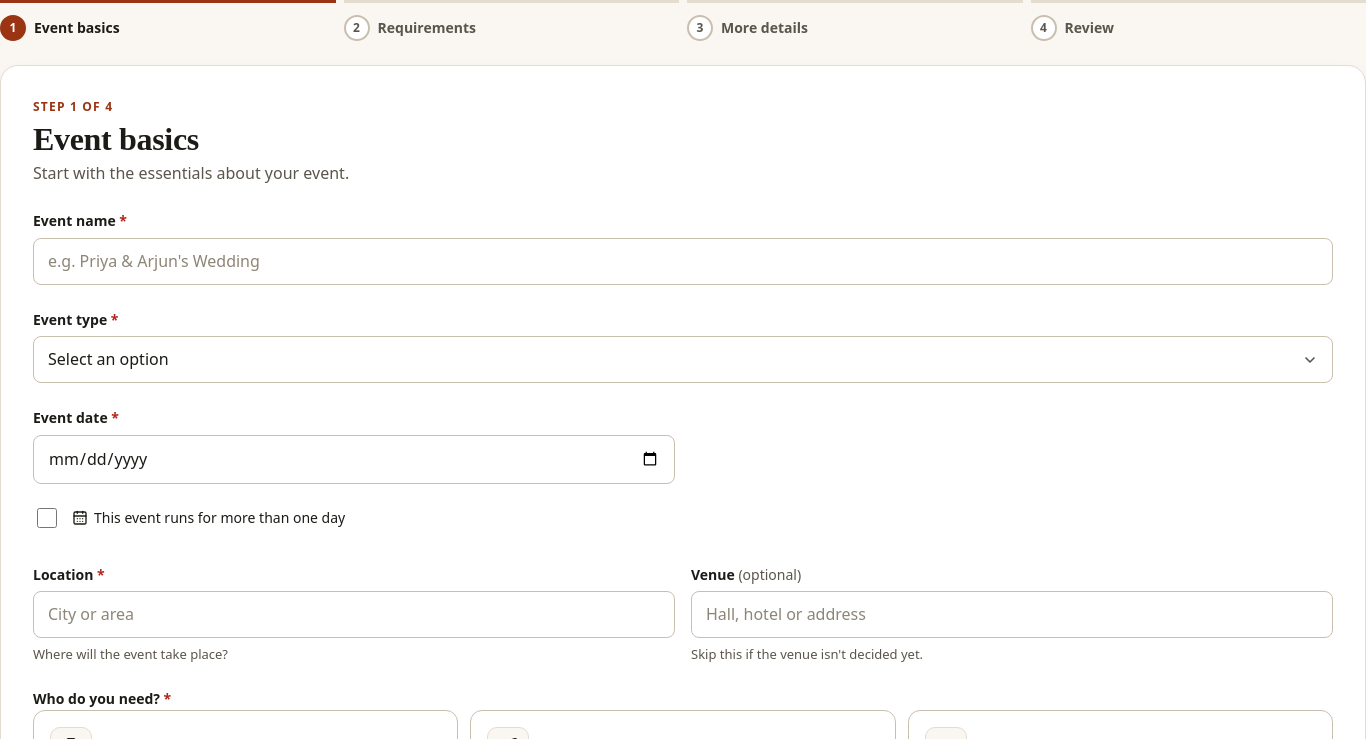
it: RequirementWizard › steps 2 and 3 adapt to Crew
The image size is (1366, 739).
Type "Wedding Celebration" into the field labelled "Event name *" at [683, 261], box [33,238,1333,285]
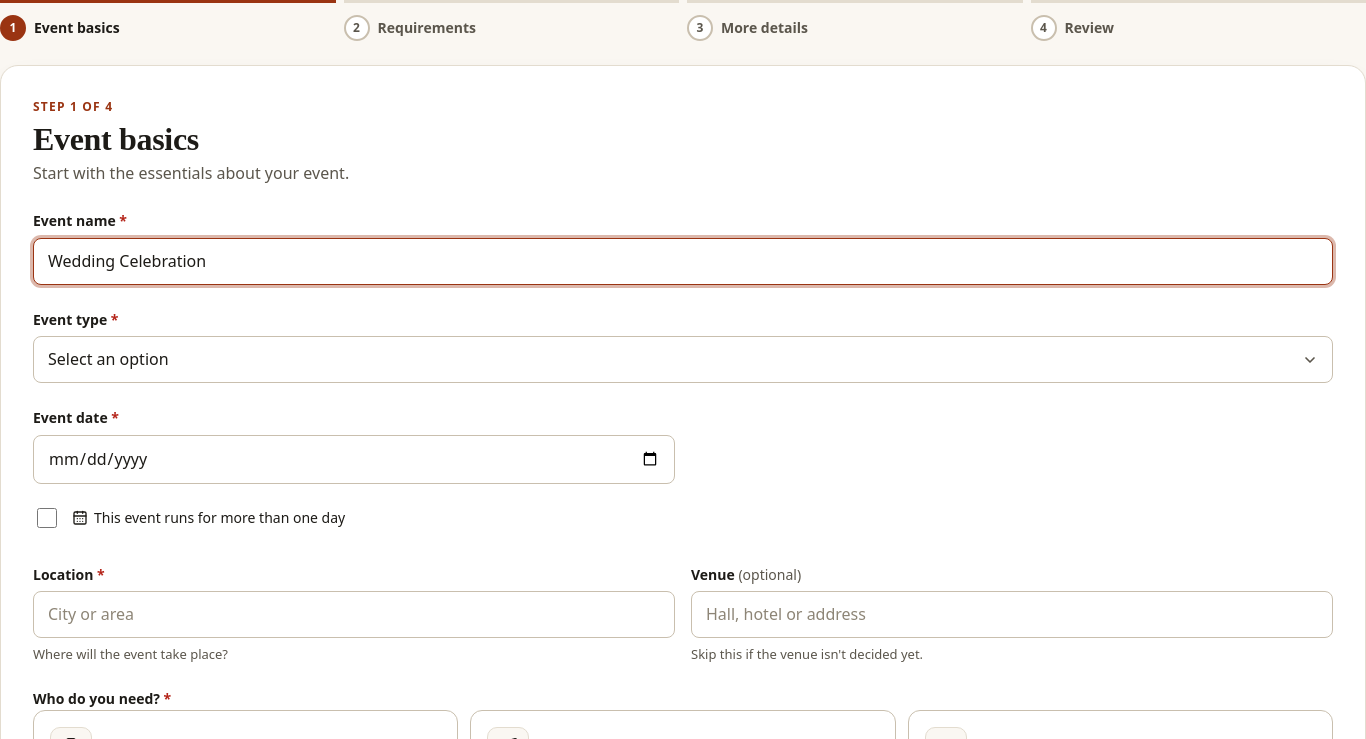
Select "Wedding" in the dropdown labelled "Event type *" at [683, 360], box [33,336,1333,383]
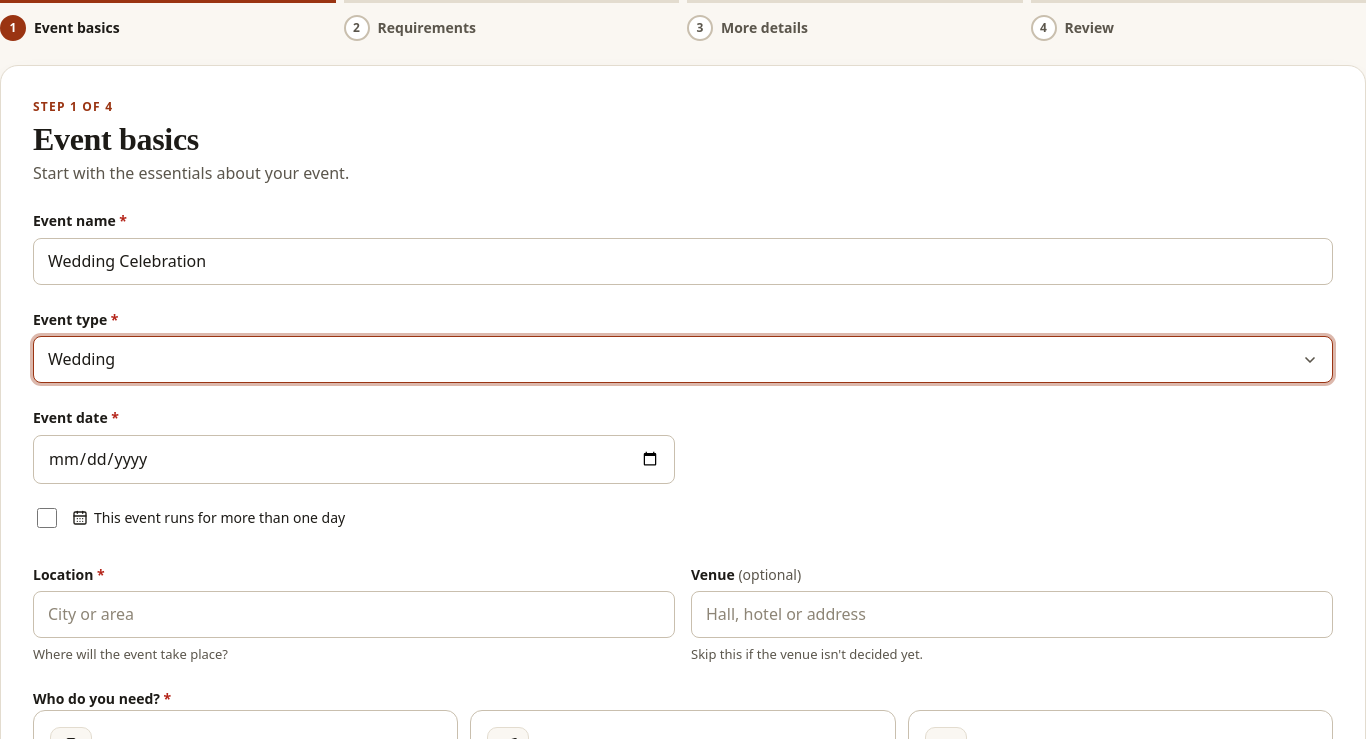
Type "2026-12-15" into the date field labelled "Event date *" at [354, 459], box [33,435,675,484]
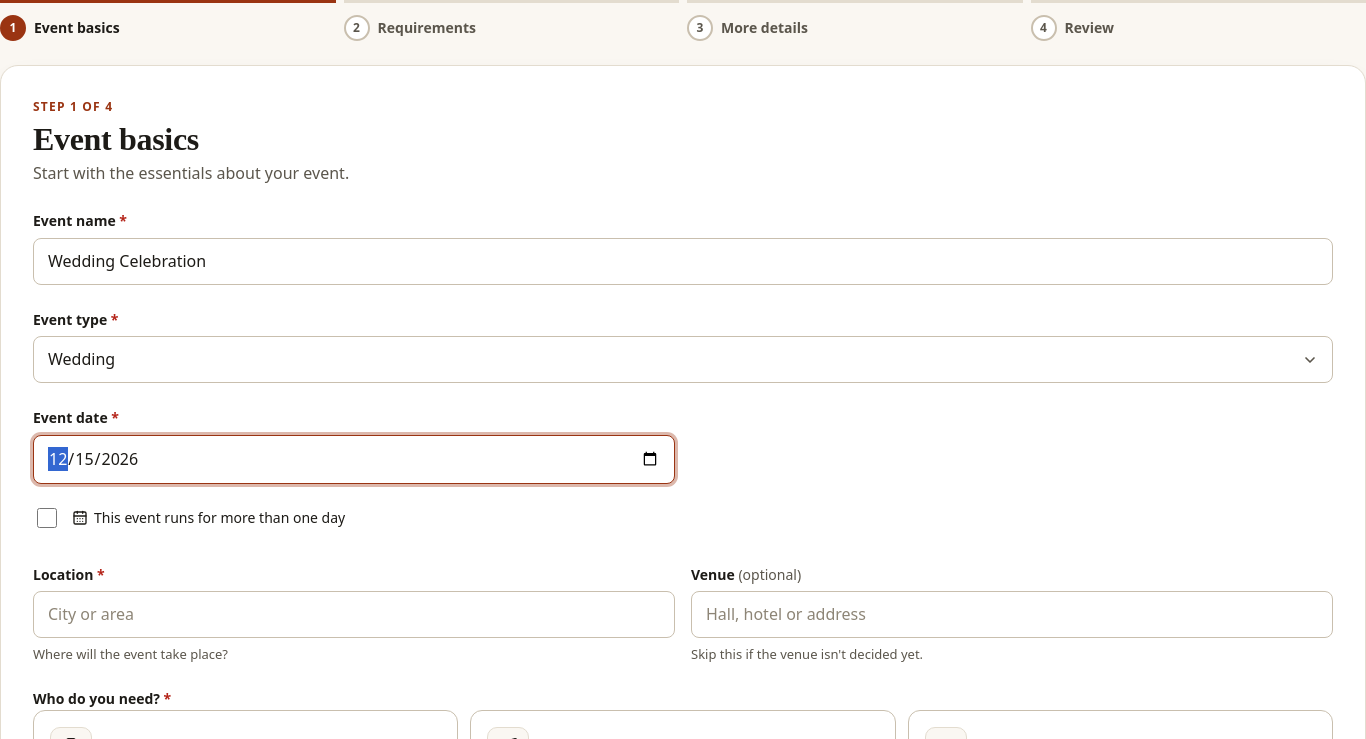
Type "Hyderabad" into the field labelled "Location *" at [354, 615], box [33,591,675,638]
(page scrolled)
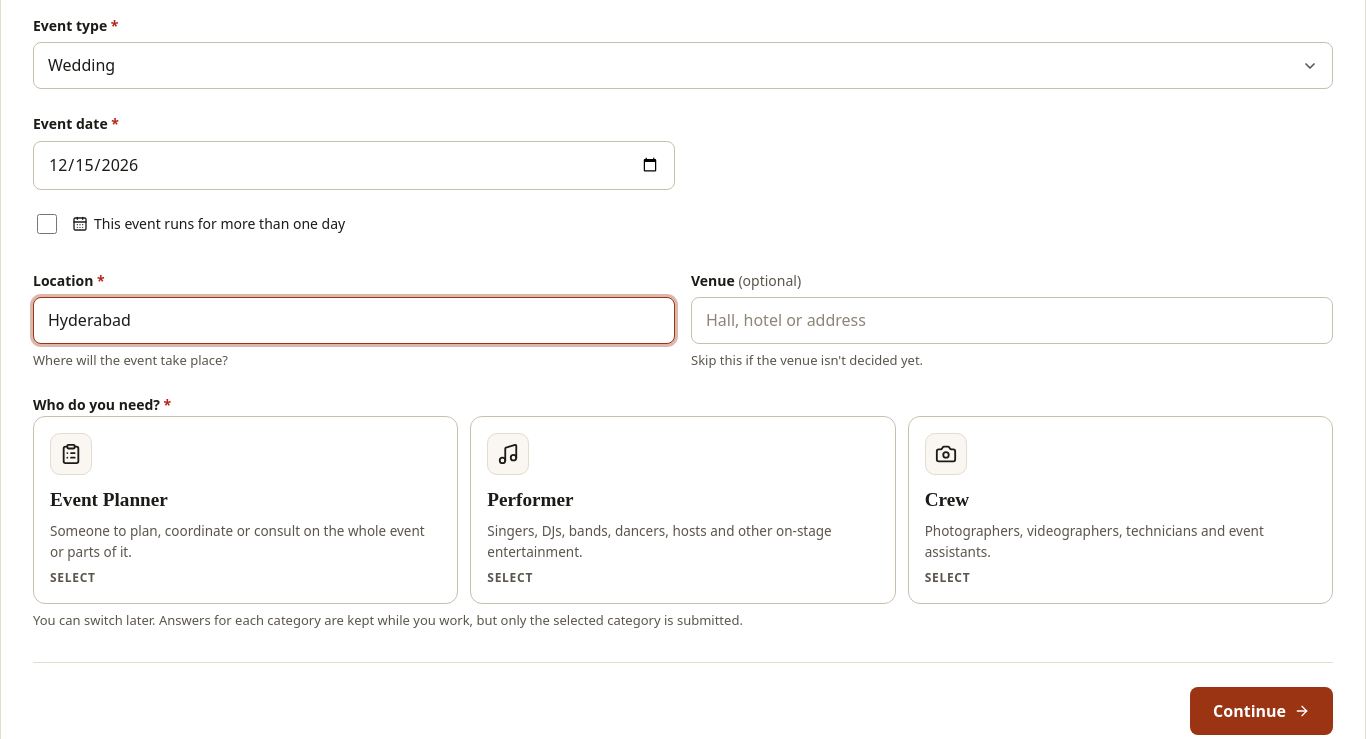
Click the radio button labelled "Crew" at [946, 454], box [908,416,1333,604]
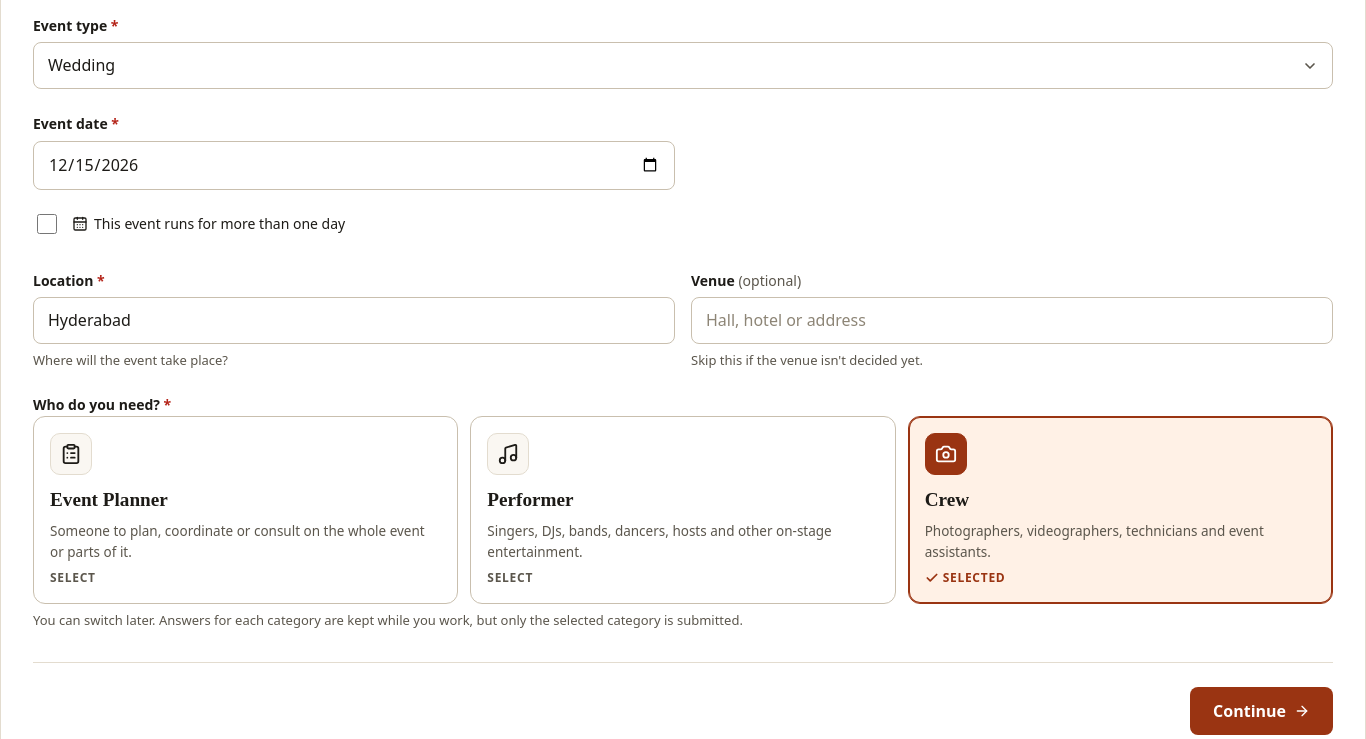
Click the button "Continue" at [1262, 711], box [1190,687,1333,735]
(page scrolled)
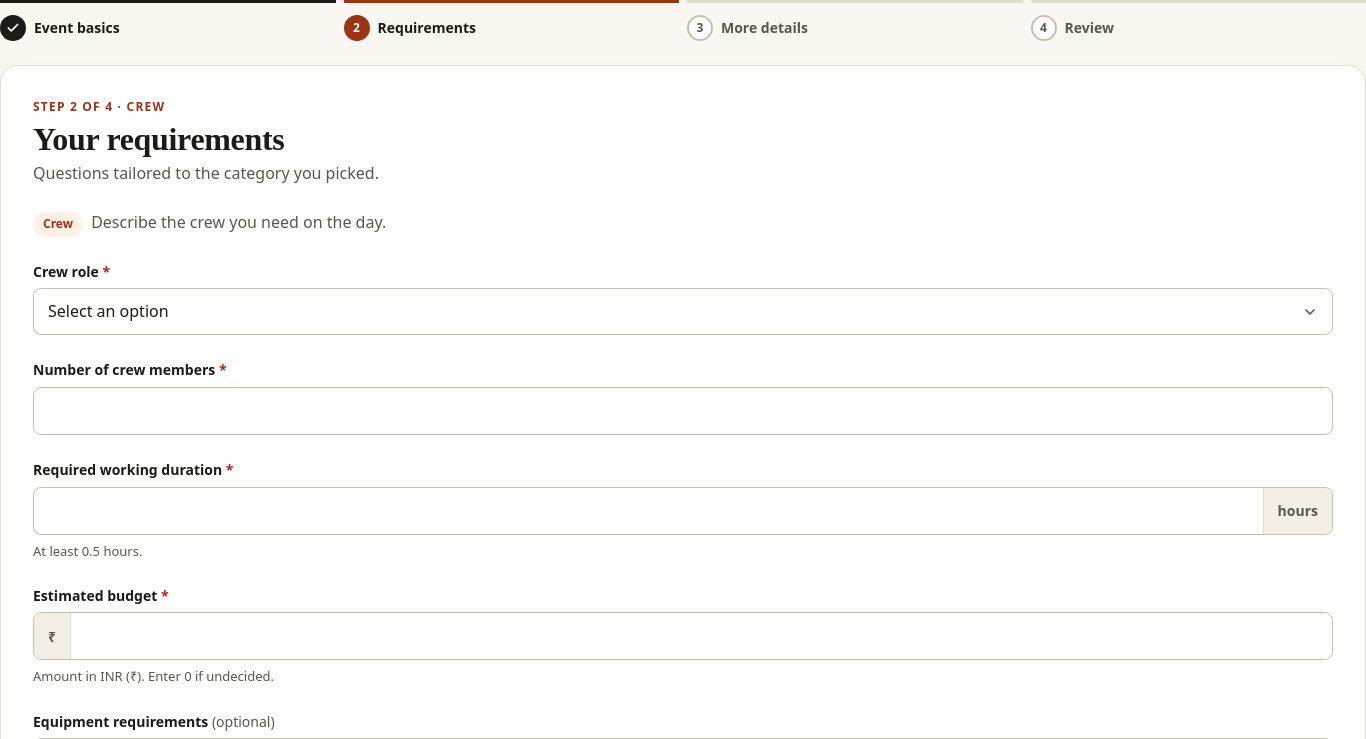
Expected: the dropdown labelled "Crew role *" is shown, [33,288,1333,335]
